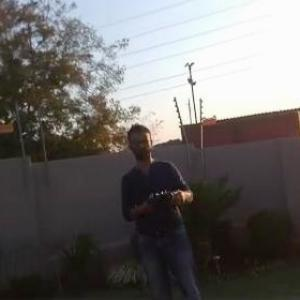follow: (115, 118, 211, 299)
